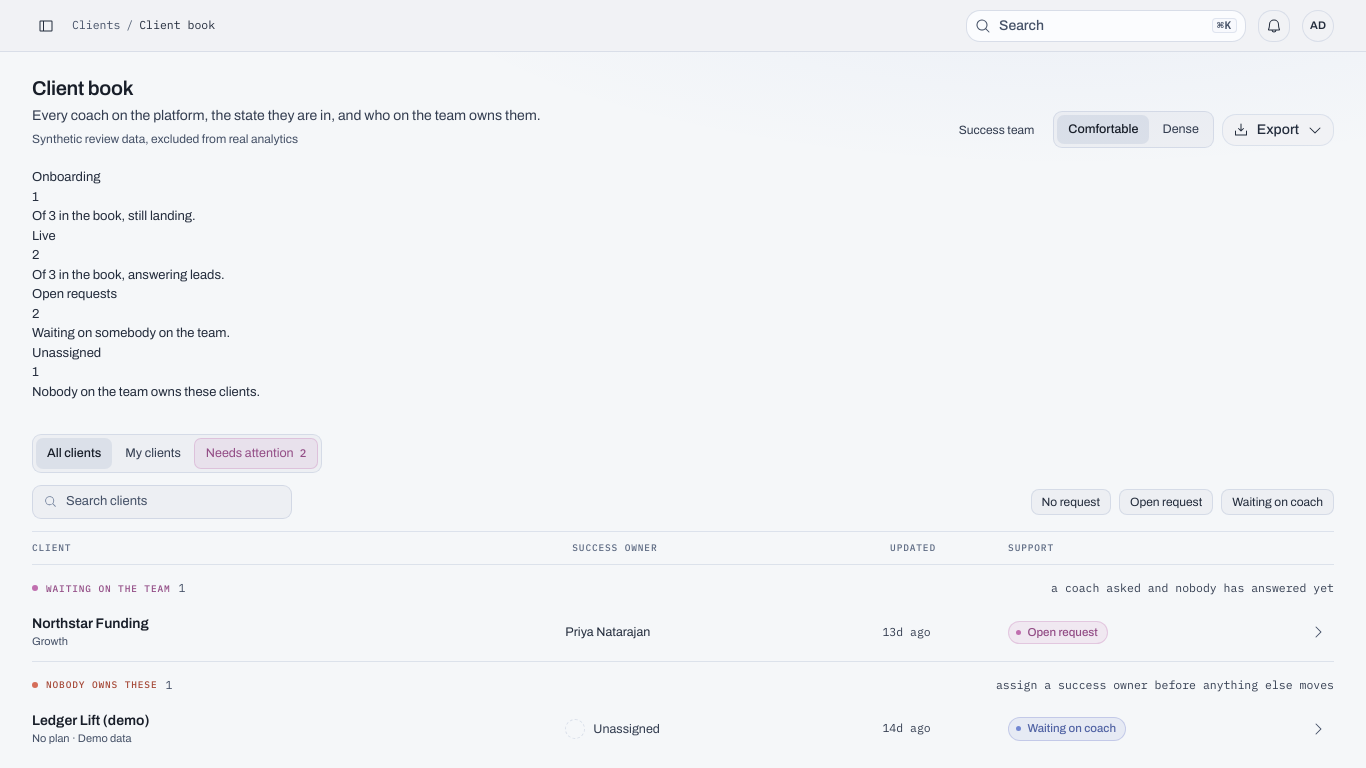
Test: SuccessClientBook surface › spends no accent fill until a row is open, and exactly one then
Click the text "Northstar Funding" at (90, 624), box [32,615,149,633]
(page scrolled)
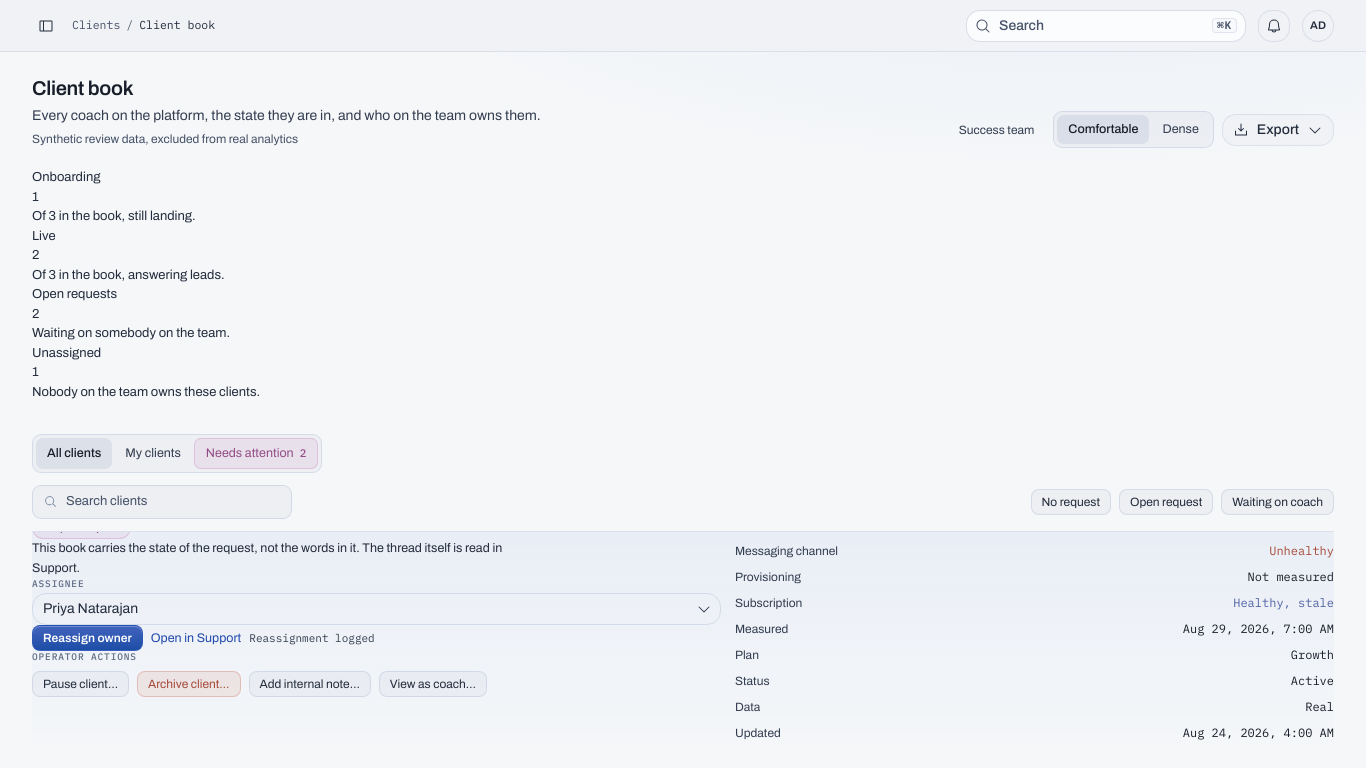
Expected: the button "Reassign owner" is shown, [32,625,143,651]
